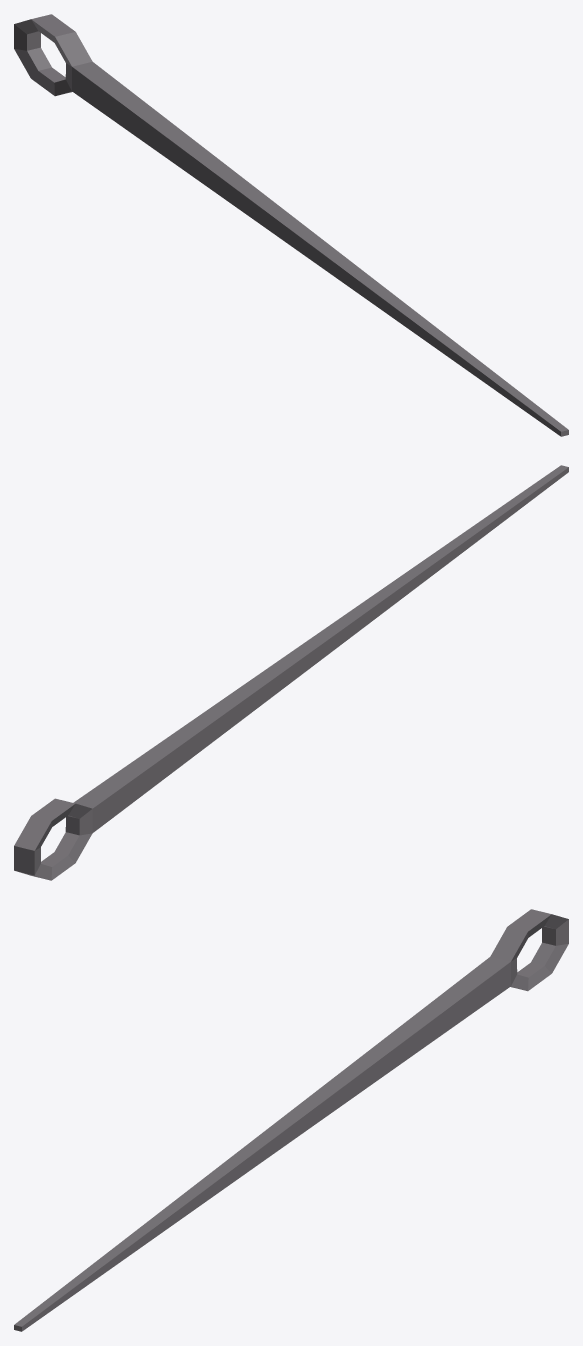
File: neddle01.gltf
3 renders of one model, top to bottom at view 1: azimuth 30°, elevation 25°; view 2: azimuth 150°, elevation 25°; view 3: azimuth 330°, elevation 25°, orthographic.
Visible parts, largest first — view 1: Cylinder; view 2: Cylinder; view 3: Cylinder.
Part boxes in pixels (x1,y1,x2,y2): Cylinder: (14,14,568,436); Cylinder: (14,465,568,880); Cylinder: (14,909,568,1331).
Bounding box in the file's own units: 0.000579 × 0.0016 × 0.0263.
Materials: 1 (1 with a texture image).
